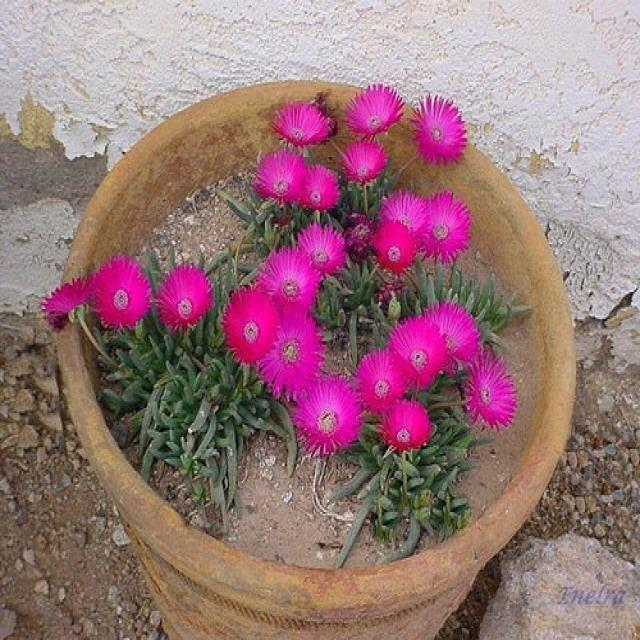pottedplant: (32, 65, 595, 635)
